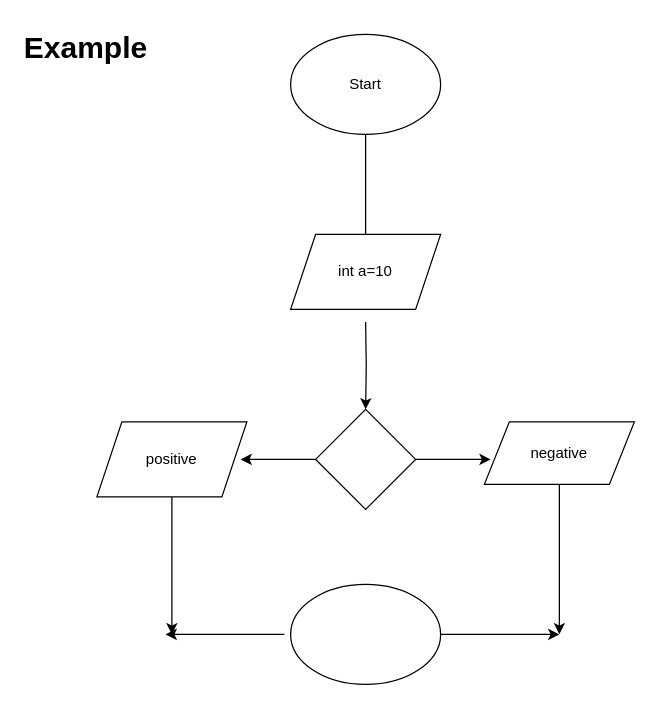
Some shapes in this 656 by 706 pixel diagram are drawn without their labels. Here are the shapes that lost their labels. From the top down, the box of each, then its label:
(314, 408, 416, 509): if a>0
(289, 583, 441, 684): end
